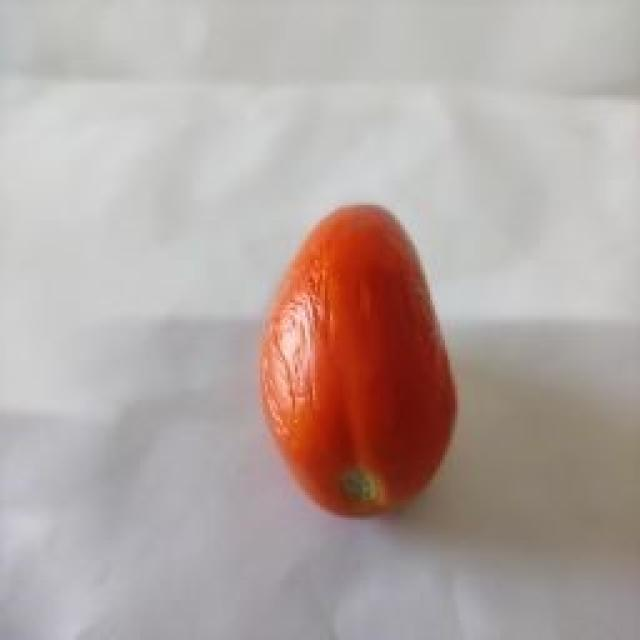overripe: (254, 202, 464, 516)
